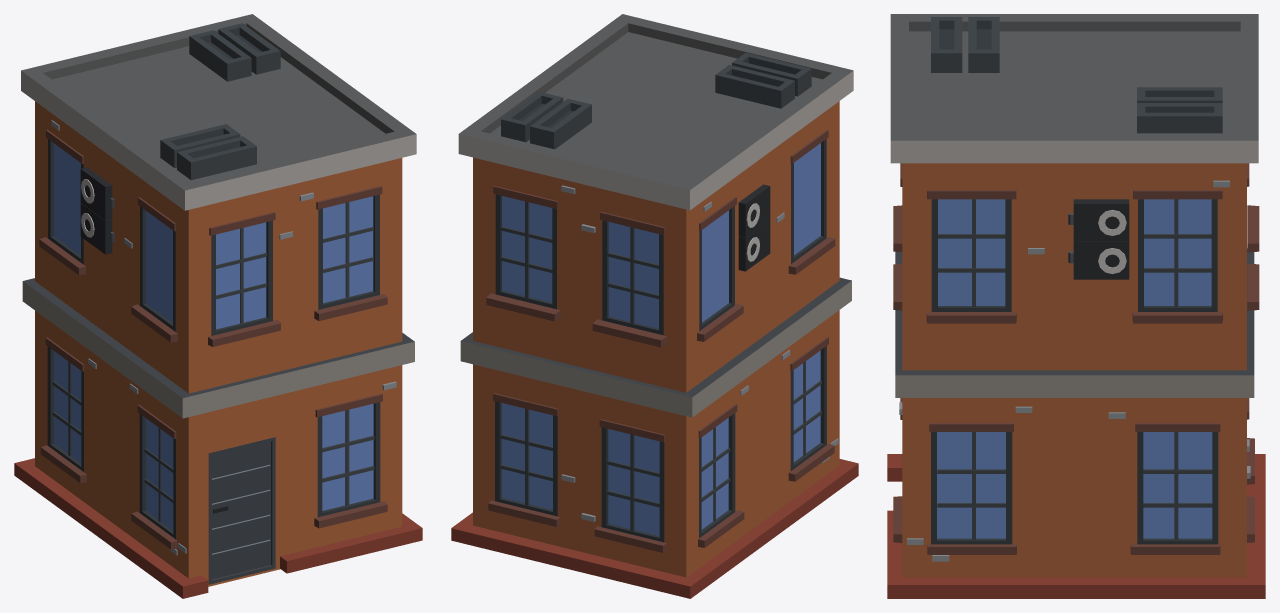
The model's file is Building_7.fbx.
The picture shows the model from 3 angles, left to right: view 1: azimuth 30°, elevation 25°; view 2: azimuth 150°, elevation 25°; view 3: azimuth 270°, elevation 25°; orthographic projection. The views are drawn at different scales.
Visible parts, largest first — view 1: Building_7; view 2: Building_7; view 3: Building_7.
Boxes of the visible parts, box(x1,y1,x2,y2) form: Building_7: box(14, 14, 422, 598); Building_7: box(451, 14, 858, 598); Building_7: box(887, 14, 1265, 598).
Bounding box in the file's own units: 578 × 959 × 704.
